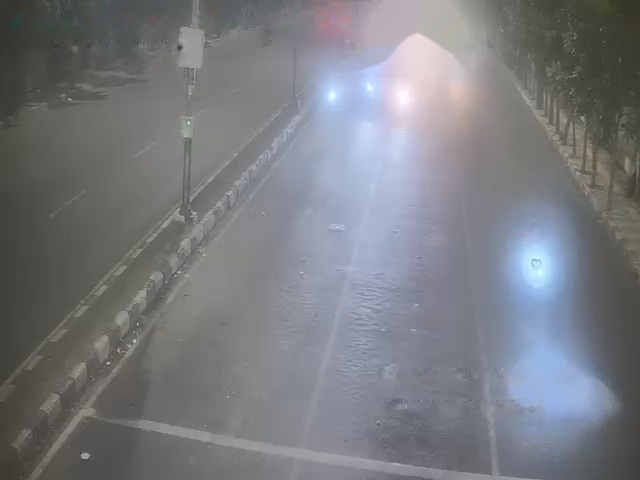Mobil: (326, 55, 372, 111)
Motor: (521, 243, 555, 297)
